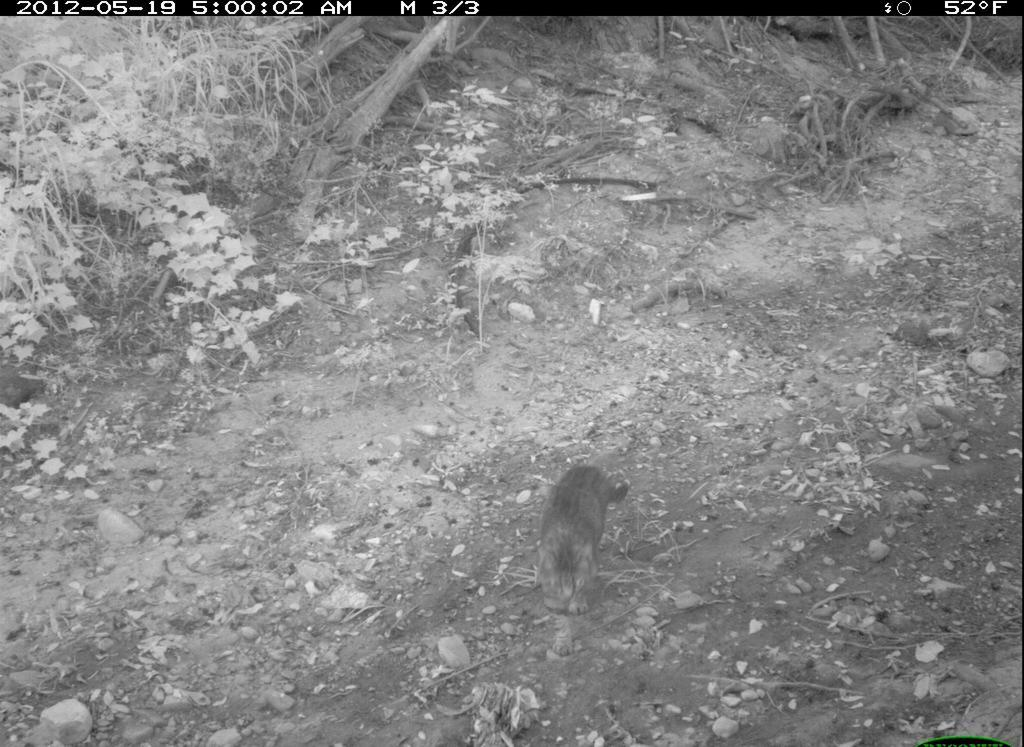cat: (513, 441, 653, 644)
